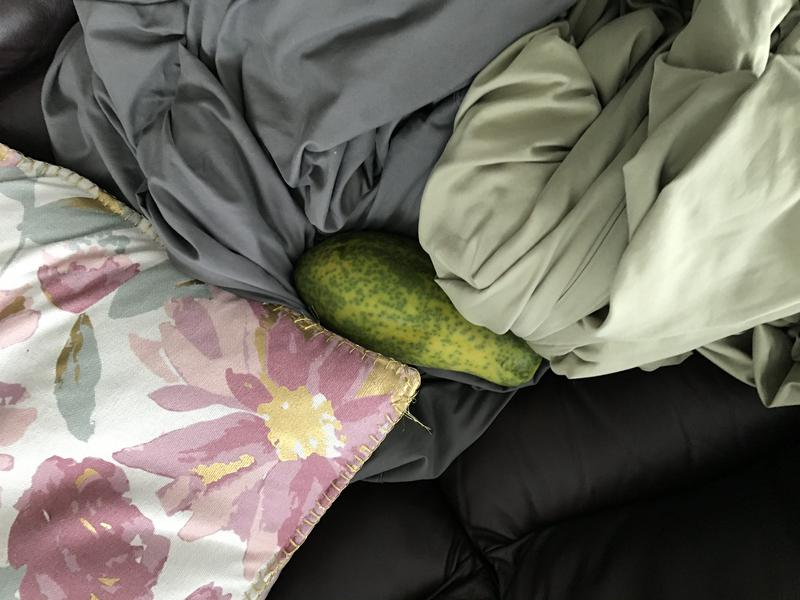papaya: (272, 223, 554, 407)
